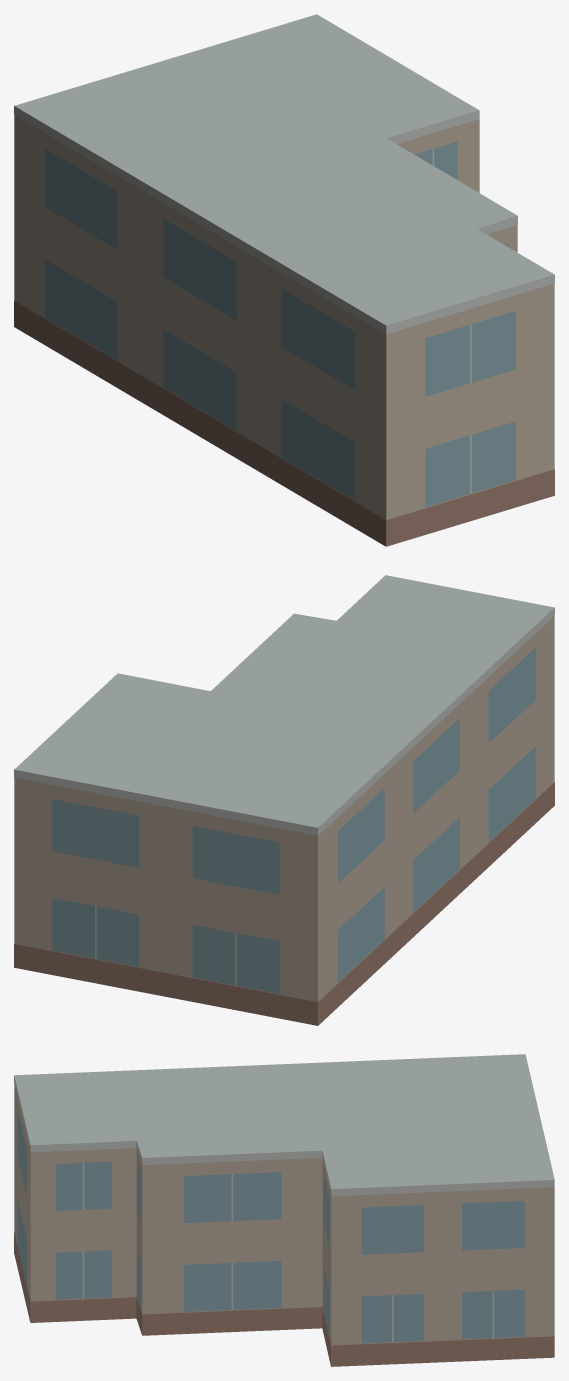
File: survey-upis-32628663.glb
The picture shows the model from 3 angles, top to bottom: view 1: azimuth 30°, elevation 25°; view 2: azimuth 150°, elevation 25°; view 3: azimuth 270°, elevation 25°; orthographic projection. The views are drawn at different scales.
Visible parts, largest first — view 1: survey-upis-32628663.tmp; view 2: survey-upis-32628663.tmp; view 3: survey-upis-32628663.tmp.
Part boxes in pixels (<box>): survey-upis-32628663.tmp: <box>14,14,554,546</box>; survey-upis-32628663.tmp: <box>14,575,554,1025</box>; survey-upis-32628663.tmp: <box>14,1054,554,1366</box>.
Bounding box in the file's own units: 9.96 × 6.1 × 16.84.
